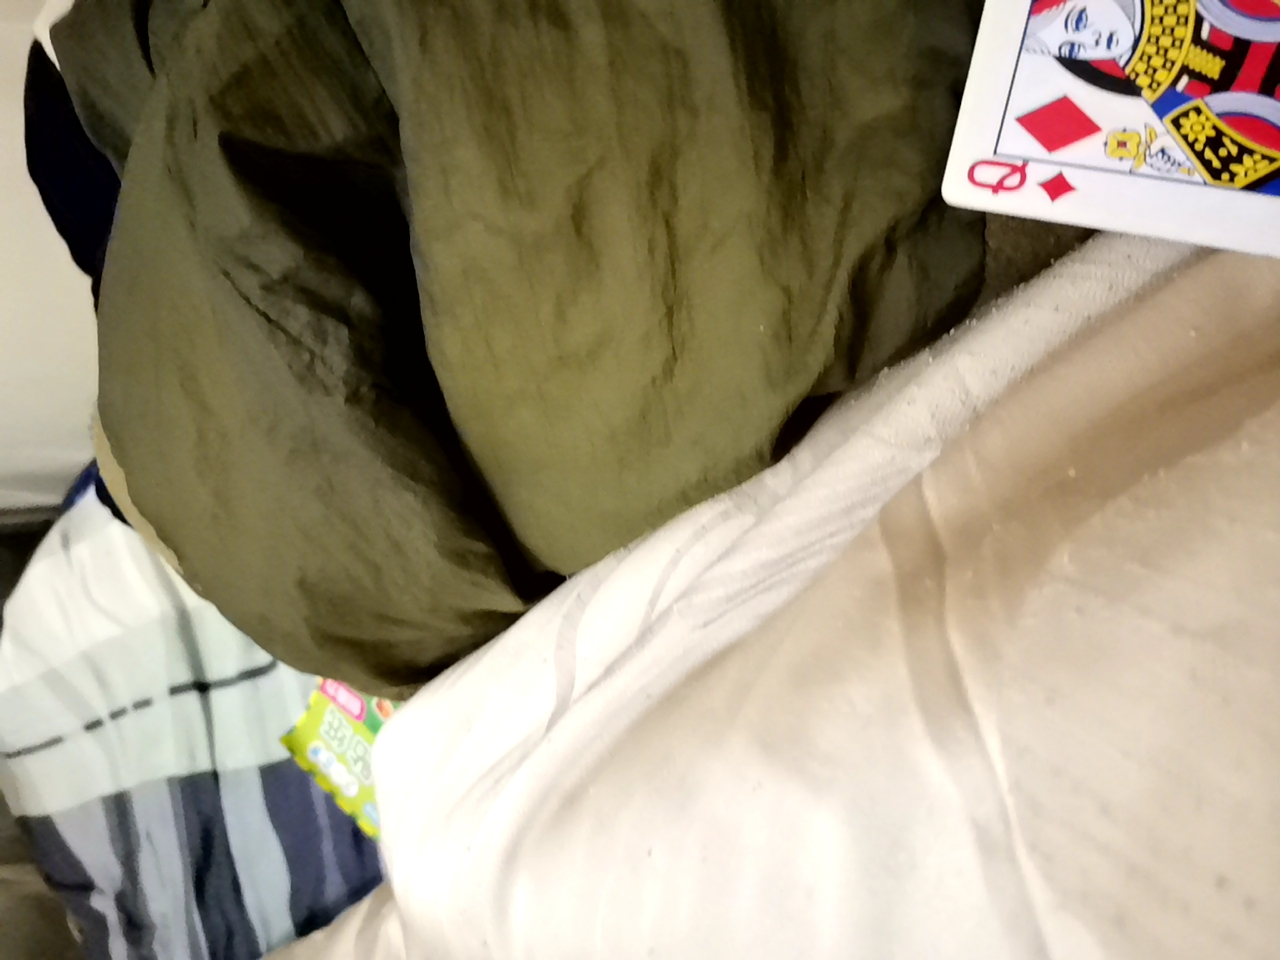fk q: (940, 1, 1275, 327)
